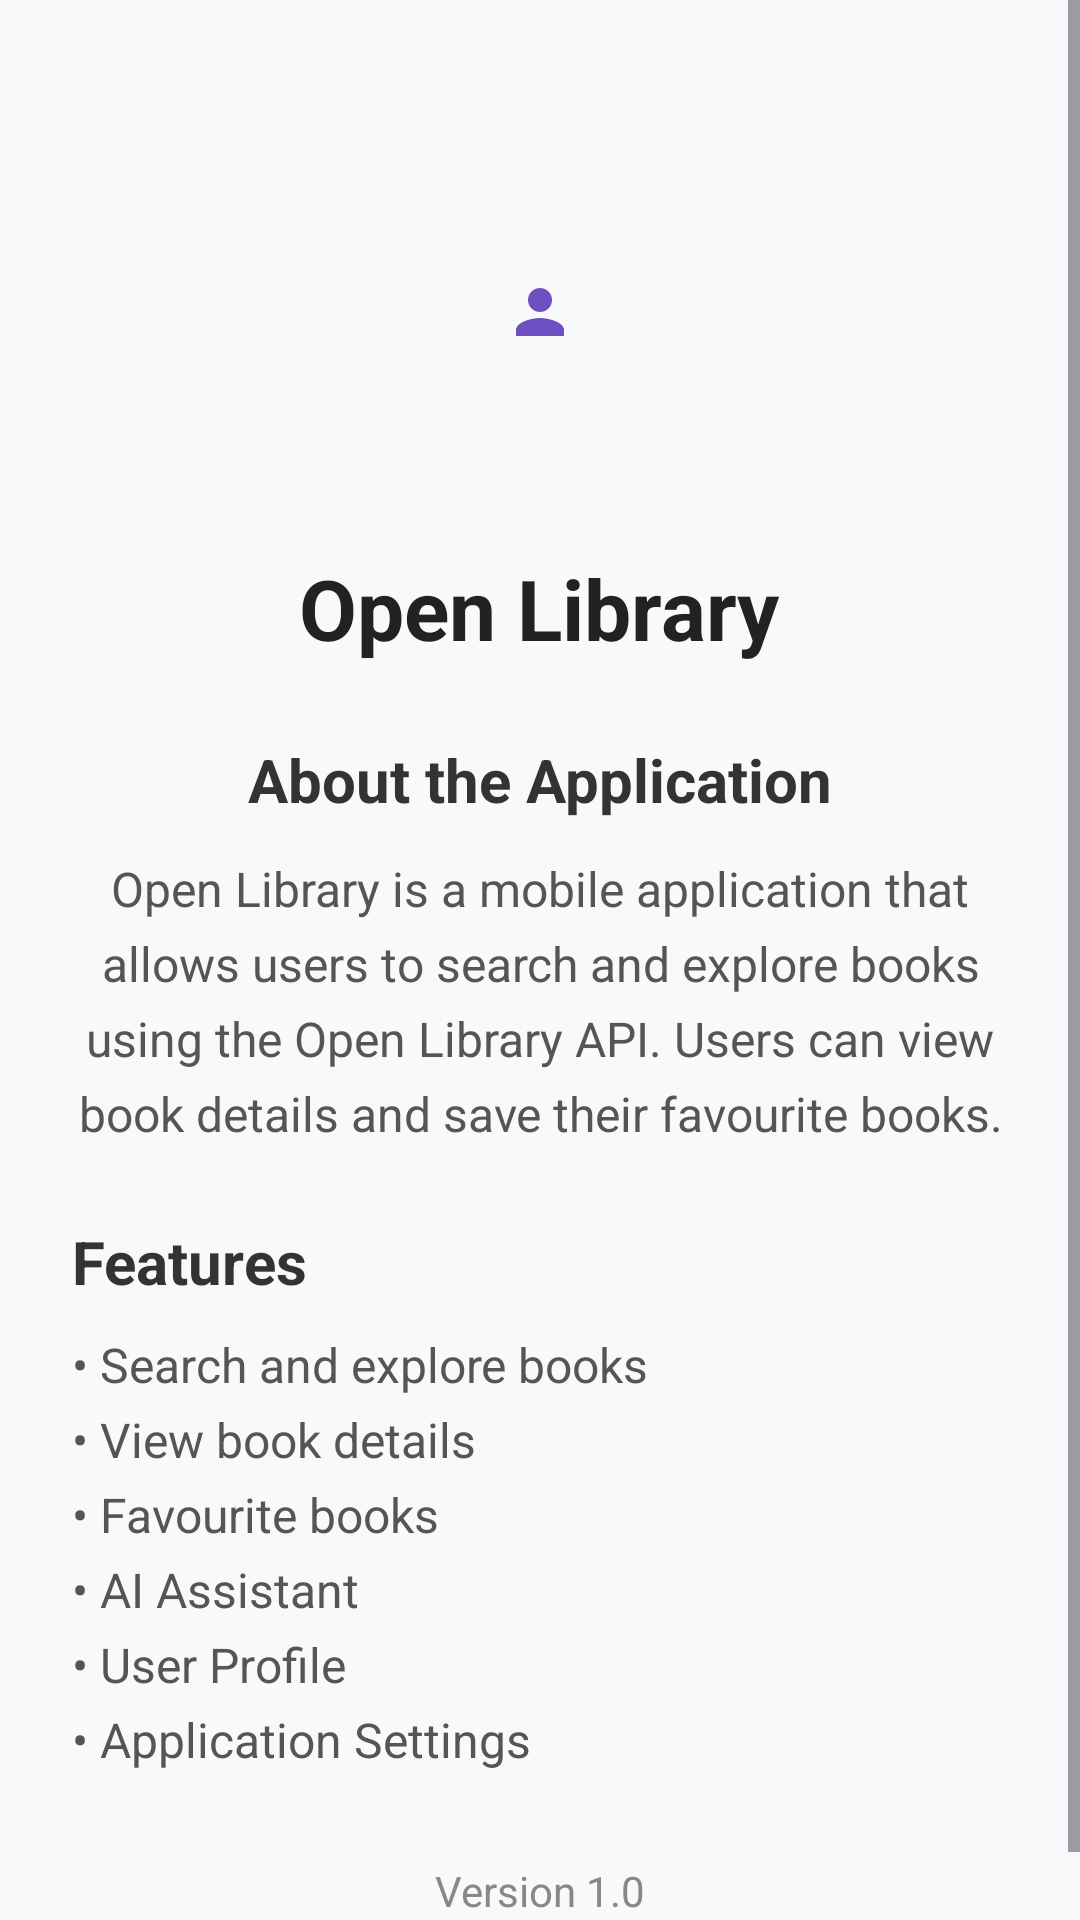

Icons on this 1080w x 1920h Android screen, each with its box as (x1, y1, x2, y2):
profile: (516, 288, 564, 336)
